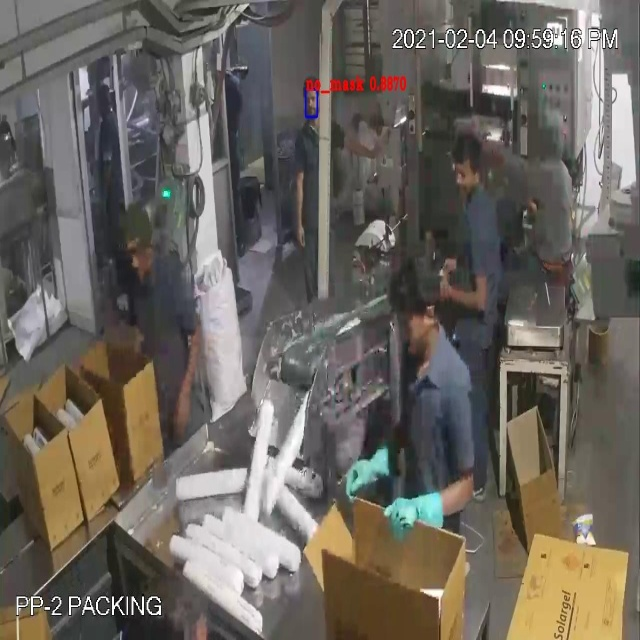Guantes: (343, 422, 406, 507), (379, 484, 452, 545)
Sin_guantes: (153, 290, 208, 460), (435, 264, 492, 330), (337, 111, 392, 172), (288, 160, 313, 266)
